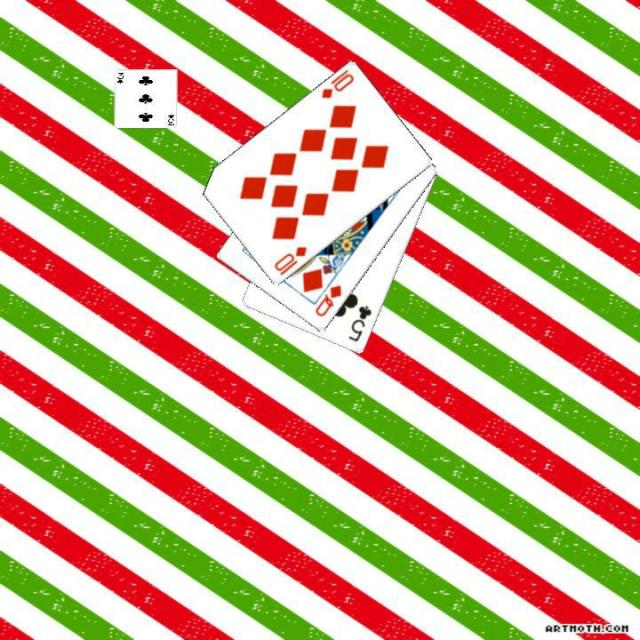10D: (270, 243, 308, 277), (318, 66, 356, 100)
5C: (345, 302, 373, 344)
QD: (311, 281, 343, 319)
